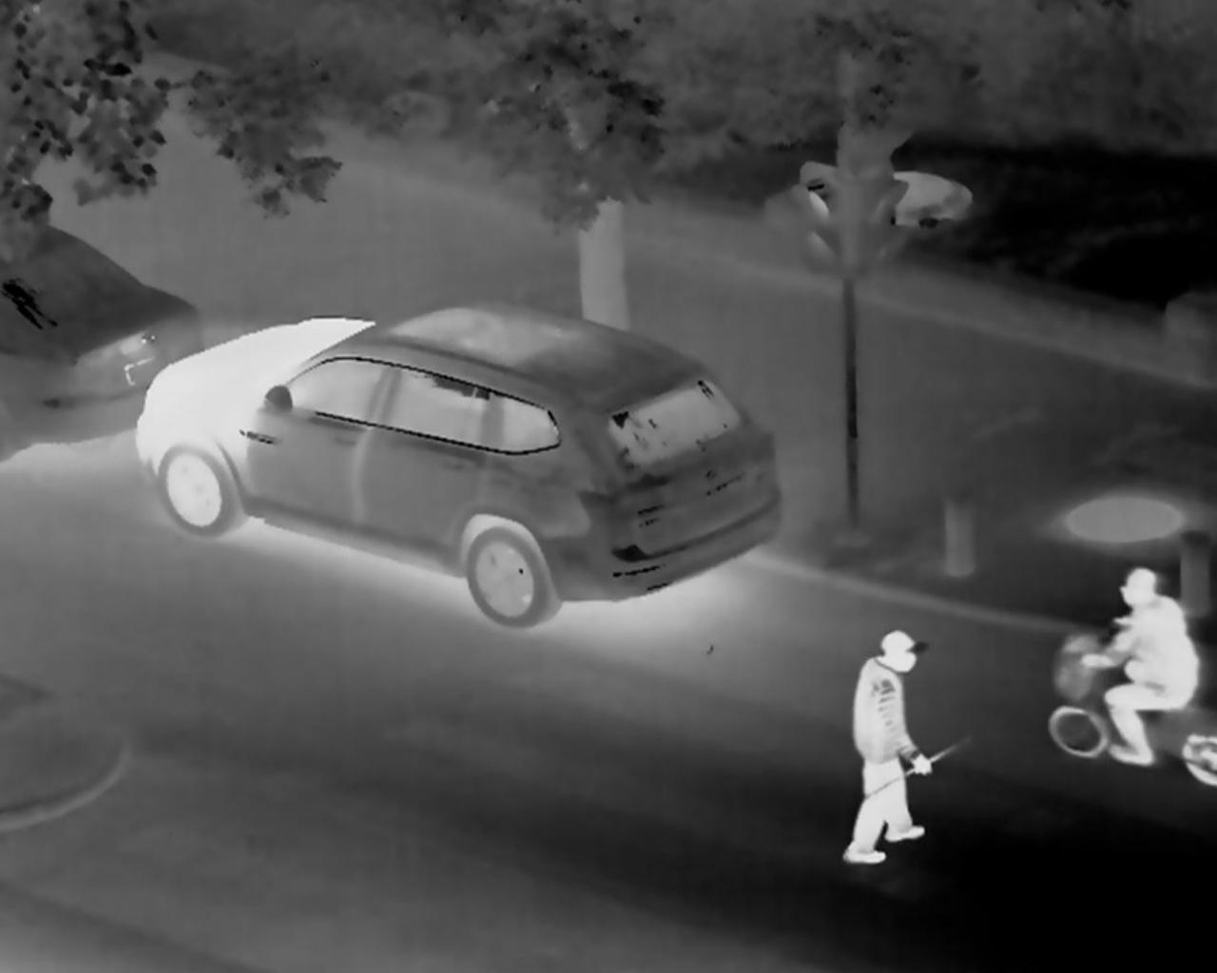person: (816, 613, 935, 896), (1043, 563, 1206, 752)
